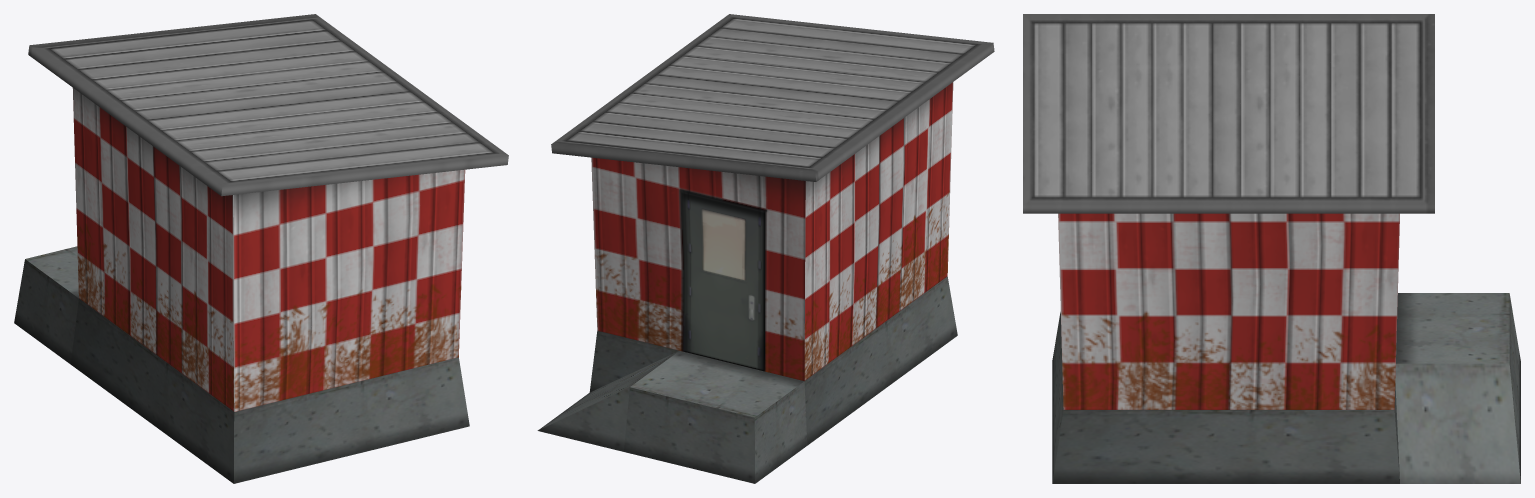
The model's file is Small_Cabin.fbx.
3 renders of one model, left to right at view 1: azimuth 30°, elevation 25°; view 2: azimuth 150°, elevation 25°; view 3: azimuth 270°, elevation 25°, orthographic. The views are drawn at different scales.
Visible parts, largest first — view 1: Small_Cabin; view 2: Small_Cabin; view 3: Small_Cabin.
Part boxes in pixels (x1,y1,x2,y2): Small_Cabin: (14, 14, 508, 483); Small_Cabin: (537, 14, 994, 483); Small_Cabin: (1023, 14, 1520, 483).
Size of the model in its own units: 26.12 by 27.21 by 36.73.
